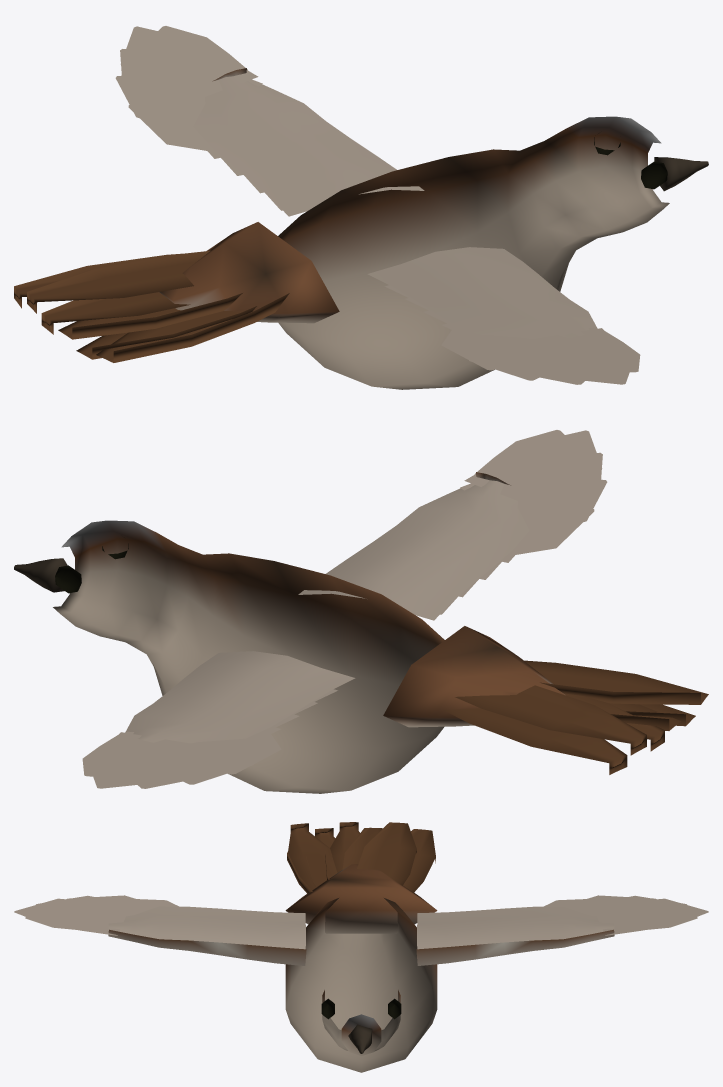
Rendered from SM_Bird_sparrow_glide_LOD1.glb.
3 views of the same model, one above another, from view 1: azimuth 30°, elevation 25°; view 2: azimuth 150°, elevation 25°; view 3: azimuth 270°, elevation 25° (orthographic). The views are drawn at different scales.
Visible parts, largest first — view 1: SM_Bird_sparrow_glide_LOD1; view 2: SM_Bird_sparrow_glide_LOD1; view 3: SM_Bird_sparrow_glide_LOD1.
Boxes of the visible parts, x1,y1,x2,y2 form: SM_Bird_sparrow_glide_LOD1: [14, 26, 708, 389]; SM_Bird_sparrow_glide_LOD1: [14, 430, 708, 793]; SM_Bird_sparrow_glide_LOD1: [14, 822, 708, 1072].
Bounding box in the file's own units: 0.1703 × 0.0549 × 0.2211.
